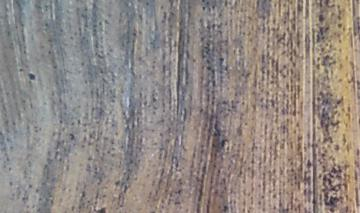tarspot: (211, 122, 222, 138), (276, 31, 287, 44), (317, 13, 326, 27), (26, 70, 36, 82), (91, 206, 107, 213), (305, 158, 313, 171), (136, 12, 144, 25), (329, 119, 341, 127), (220, 138, 229, 148), (335, 95, 344, 105), (173, 189, 183, 198), (332, 143, 341, 153), (221, 204, 230, 213), (167, 1, 175, 10), (315, 32, 321, 44), (113, 179, 121, 188), (82, 78, 91, 86), (68, 131, 75, 141), (80, 190, 87, 200), (318, 27, 324, 38), (217, 56, 226, 63), (151, 95, 158, 104), (76, 117, 83, 126), (122, 184, 128, 194), (57, 118, 65, 125), (26, 182, 33, 190), (98, 67, 105, 75), (79, 60, 86, 68), (51, 63, 58, 71), (46, 48, 53, 56), (109, 145, 117, 152), (201, 4, 207, 13), (336, 21, 342, 30), (315, 95, 321, 104), (205, 65, 212, 72), (7, 180, 14, 187), (198, 106, 204, 114), (17, 67, 25, 73), (131, 30, 137, 38), (199, 35, 205, 43), (7, 166, 12, 175), (96, 20, 102, 27), (282, 19, 288, 26), (318, 1, 323, 9), (144, 1, 150, 7), (191, 57, 197, 63), (158, 4, 164, 10), (324, 1, 328, 9), (44, 22, 49, 27), (200, 1, 206, 4)
